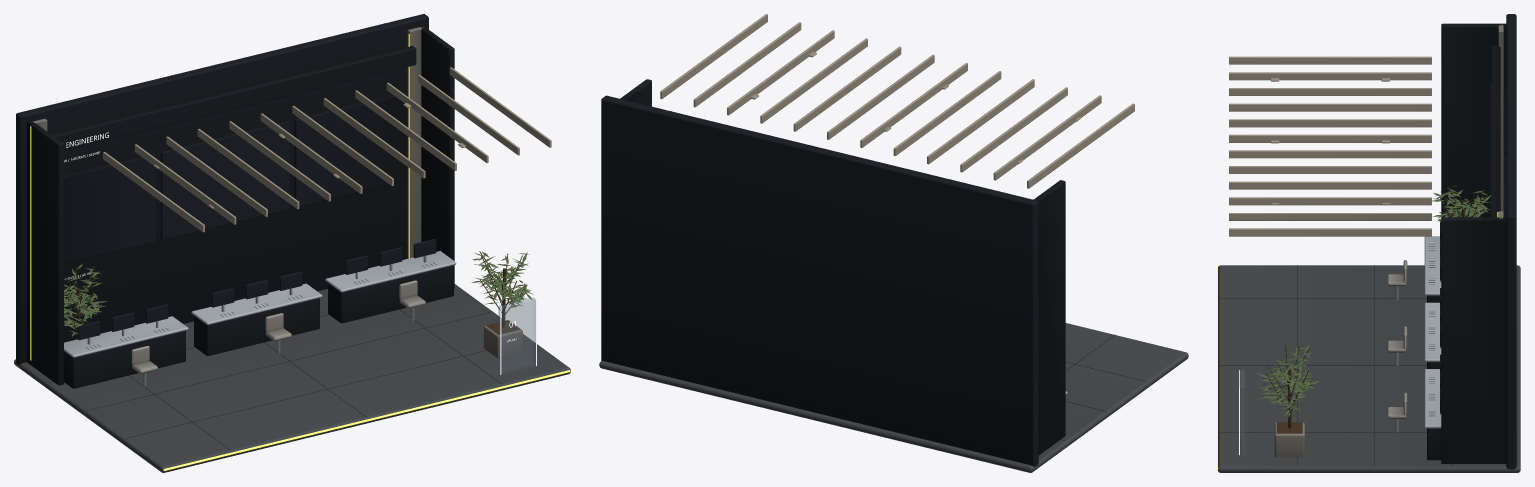
File: av-engineering.glb
The picture shows the model from 3 angles, left to right: view 1: azimuth 30°, elevation 25°; view 2: azimuth 150°, elevation 25°; view 3: azimuth 270°, elevation 25°; orthographic projection. The views are drawn at different scales.
Parts seen in each view (by area): view 1: Graphite lacquer, Honed grey stone, Screen substrate, Brushed champagne aluminium, Satin aluminium, Silver travertine, Olive leaf, Smoked architectural glass, 3000K integrated light, Warm grey upholstery, Smoked oak; view 2: Graphite lacquer, Brushed champagne aluminium, Honed grey stone; view 3: Honed grey stone, Graphite lacquer, Brushed champagne aluminium, Satin aluminium, Olive leaf, Silver travertine, Smoked oak, Warm grey upholstery, Screen substrate, Smoked architectural glass.
Part boxes in pixels (x1,y1,x2,y2): Graphite lacquer: [16, 14, 530, 450]; Honed grey stone: [14, 284, 570, 472]; Screen substrate: [64, 92, 436, 340]; Brushed champagne aluminium: [103, 67, 551, 232]; Satin aluminium: [64, 251, 456, 386]; Silver travertine: [32, 26, 522, 358]; Olive leaf: [64, 252, 533, 336]; Smoked architectural glass: [498, 298, 535, 373]; 3000K integrated light: [30, 34, 570, 470]; Warm grey upholstery: [131, 280, 425, 373]; Smoked oak: [64, 251, 527, 339]; Graphite lacquer: [601, 79, 1146, 467]; Brushed champagne aluminium: [660, 14, 1134, 188]; Honed grey stone: [599, 323, 1188, 472]; Honed grey stone: [1218, 265, 1520, 472]; Graphite lacquer: [1220, 14, 1516, 469]; Brushed champagne aluminium: [1229, 56, 1431, 236]; Satin aluminium: [1395, 236, 1441, 432]; Olive leaf: [1256, 185, 1491, 416]; Silver travertine: [1274, 24, 1503, 457]; Smoked oak: [1265, 83, 1491, 433]; Warm grey upholstery: [1387, 260, 1407, 418]; Screen substrate: [1440, 90, 1506, 412]; Smoked architectural glass: [1240, 369, 1244, 454].
Bounding box in the file's own units: 13 × 7.7 × 8.21.
